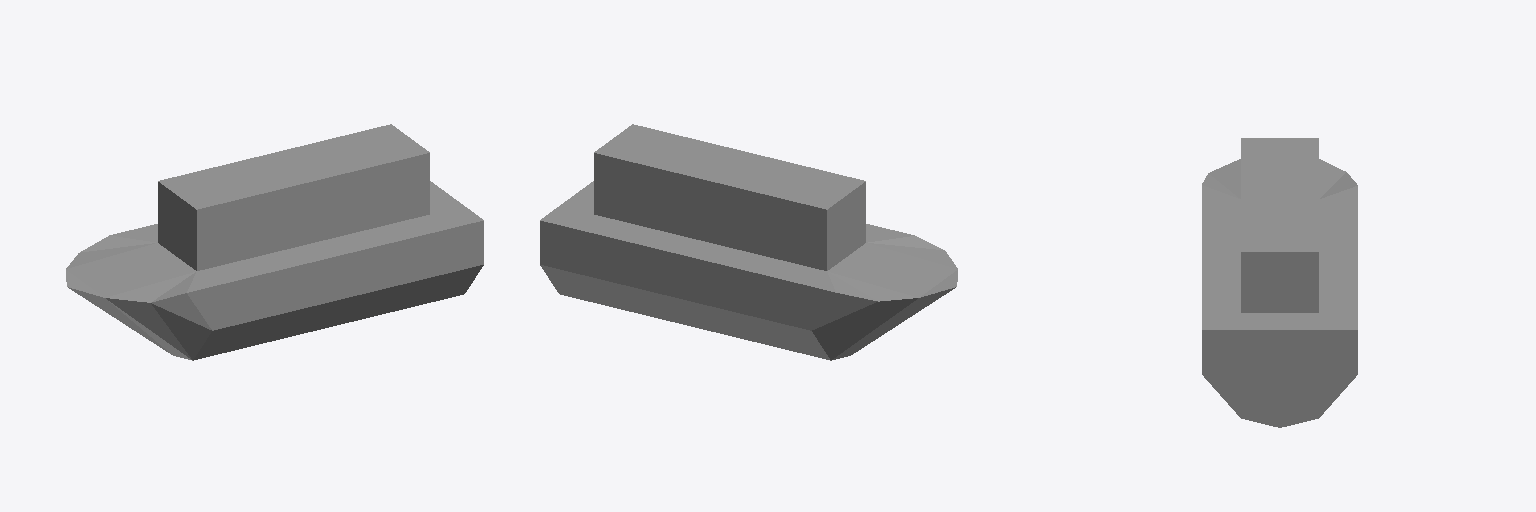
File: boat.obj
3 renders of one model, left to right at view 1: azimuth 30°, elevation 25°; view 2: azimuth 150°, elevation 25°; view 3: azimuth 270°, elevation 25°, orthographic.
Visible parts, largest first — view 1: Cube; view 2: Cube; view 3: Cube.
Boxes of the visible parts, box(x1,y1,x2,y2) form: Cube: box(66, 124, 483, 360); Cube: box(540, 124, 957, 360); Cube: box(1202, 138, 1357, 427).
Size of the model in its own units: 5.58 by 2.25 by 2.